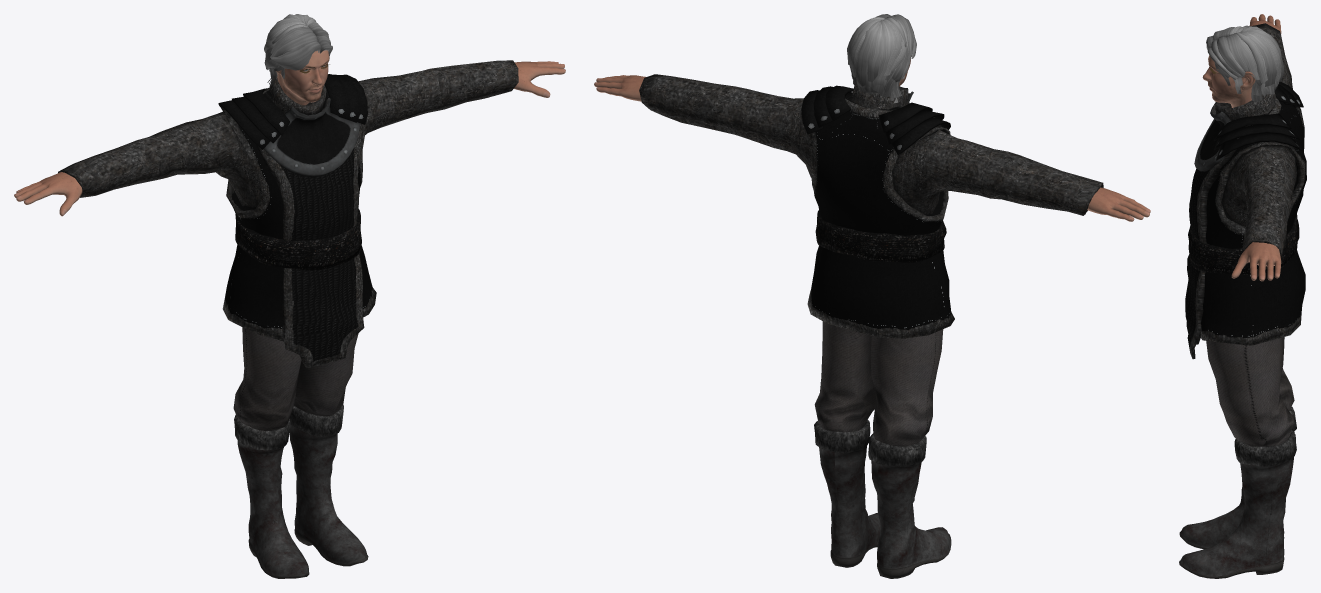
Rendered from bandit.obj.
The picture shows the model from 3 angles, left to right: view 1: azimuth 30°, elevation 25°; view 2: azimuth 150°, elevation 25°; view 3: azimuth 270°, elevation 25°; orthographic projection. The views are drawn at different scales.
Visible parts, largest first — view 1: Tops, Shoes, Bottoms, Body, Hair; view 2: Tops, Shoes, Bottoms, Hair, Body; view 3: Tops, Shoes, Bottoms, Hair, Body.
Part boxes in pixels (box(x1,y1,x2,y2)): Tops: box(58, 60, 518, 368); Shoes: box(234, 405, 368, 578); Bottoms: box(233, 327, 358, 431); Body: box(14, 50, 565, 216); Hair: box(264, 14, 332, 89); Tops: box(639, 74, 1103, 338); Shoes: box(814, 419, 951, 578); Bottoms: box(814, 321, 943, 446); Hair: box(847, 14, 916, 103); Body: box(594, 59, 1150, 221); Tops: box(1185, 23, 1306, 359); Shoes: box(1179, 406, 1296, 578); Bottoms: box(1206, 337, 1294, 446); Hair: box(1206, 25, 1283, 101); Body: box(1202, 14, 1281, 281).
Bounding box in the file's own units: 194 × 181 × 39.69.
Materials: 5 (5 with a texture image).
